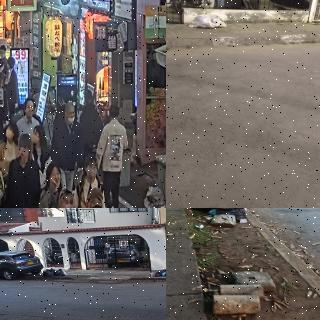Garbage: (137, 179, 166, 208), (184, 13, 231, 30), (217, 208, 247, 220), (42, 268, 56, 277), (54, 269, 65, 276), (208, 208, 217, 215), (154, 271, 162, 277), (62, 270, 68, 276), (161, 271, 166, 276)
